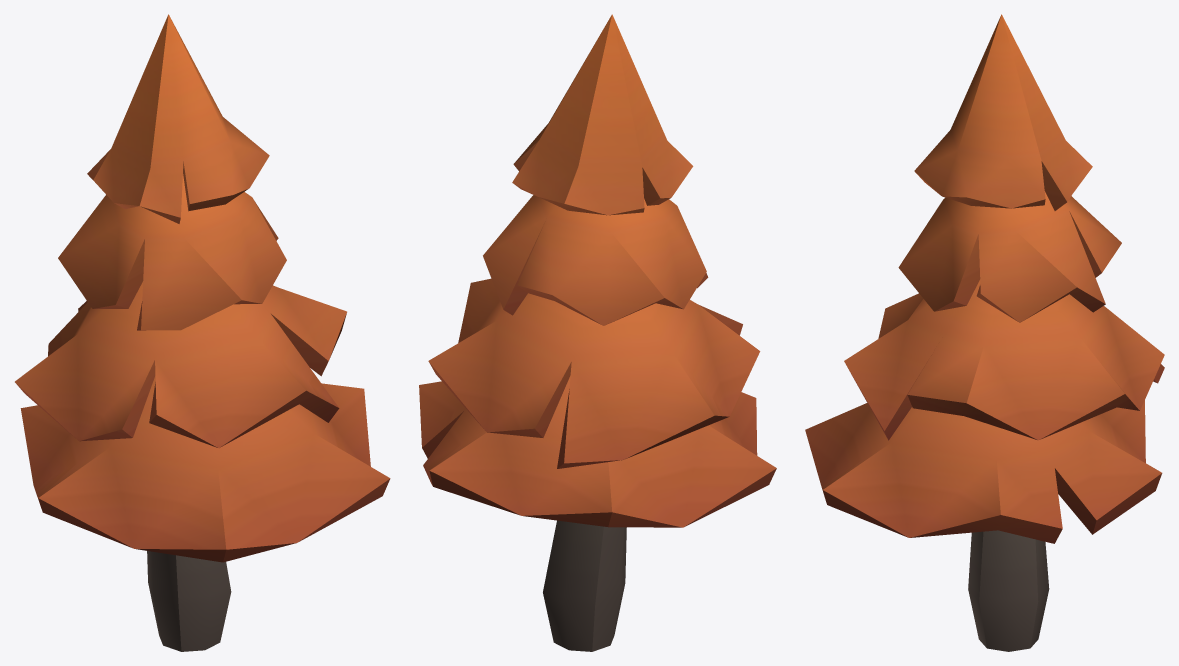
The model's file is autumn-pine.glb.
3 views of the same model, side by side, from view 1: azimuth 30°, elevation 25°; view 2: azimuth 150°, elevation 25°; view 3: azimuth 270°, elevation 25° (orthographic). The views are drawn at different scales.
Visible parts, largest first — view 1: tree_pine_orange_medium; view 2: tree_pine_orange_medium; view 3: tree_pine_orange_medium.
Part boxes in pixels (x1=…): tree_pine_orange_medium: x1=15, y1=14, x2=390, y2=651; tree_pine_orange_medium: x1=419, y1=14, x2=776, y2=651; tree_pine_orange_medium: x1=805, y1=14, x2=1164, y2=651.
Bounding box in the file's own units: 3.33 × 5.87 × 3.12.
1 material, 1 textured.
